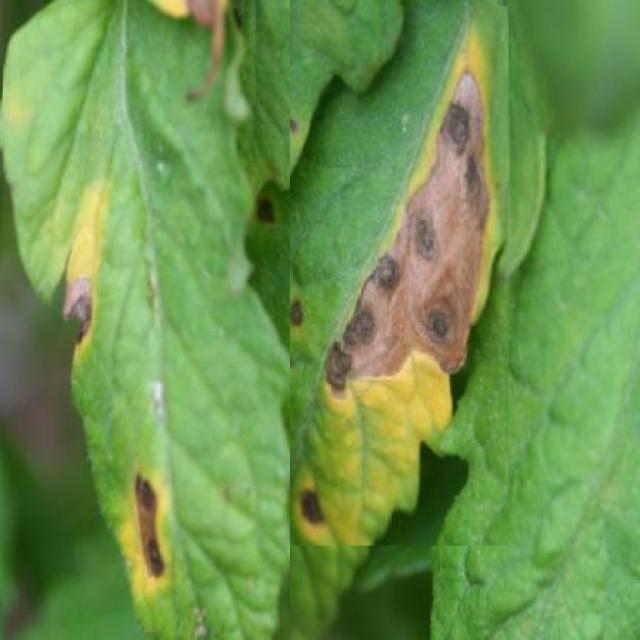Early Blight: (3, 0, 290, 640), (272, 6, 508, 545)
